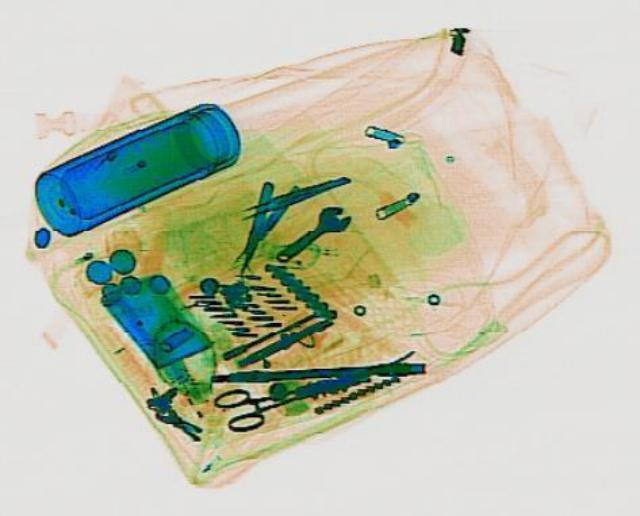Scissors: (206, 357, 366, 432)
Wrench: (264, 199, 356, 265)
